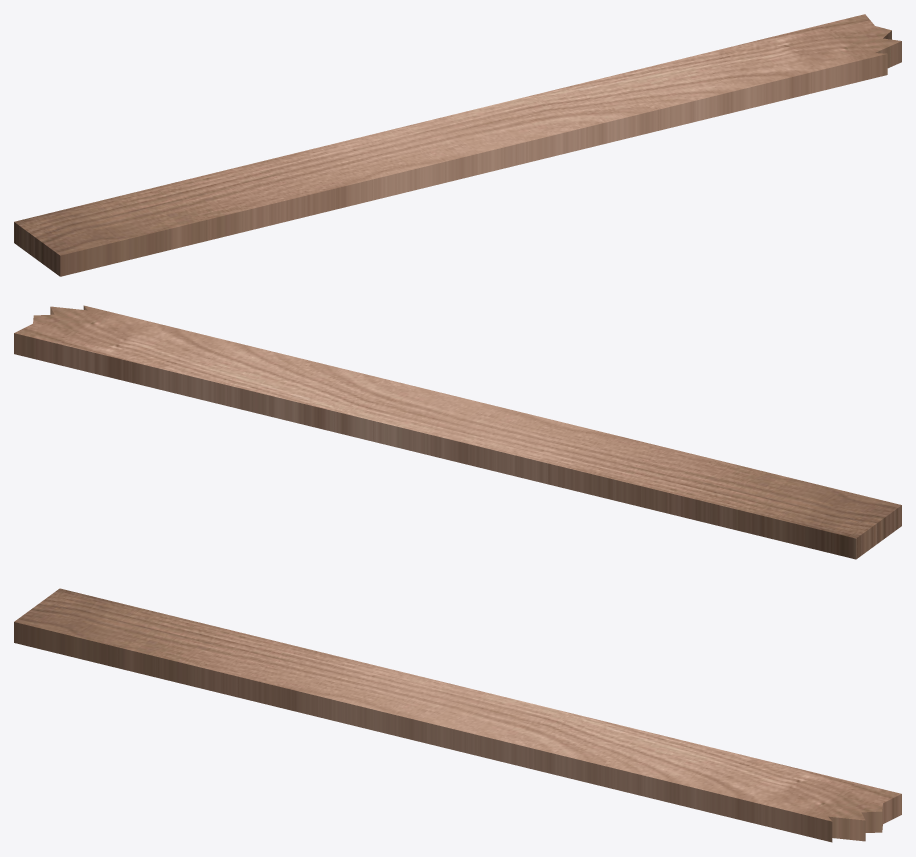
Rendered from Debris_woodScrap1.fbx.
3 views of the same model, one above another, from view 1: azimuth 30°, elevation 25°; view 2: azimuth 150°, elevation 25°; view 3: azimuth 330°, elevation 25° (orthographic).
Parts seen in each view (by area): view 1: pCube1; view 2: pCube1; view 3: pCube1.
Part boxes in pixels (<box>): pCube1: <box>14,14,901,276</box>; pCube1: <box>14,305,901,559</box>; pCube1: <box>14,588,901,842</box>.
Bounding box in the file's own units: 26.96 × 0.6386 × 2.53.
1 material, 1 textured.
